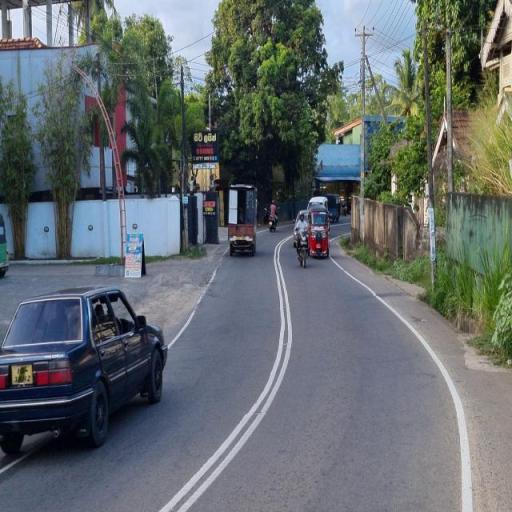double_white_line: (157, 235, 297, 511)
